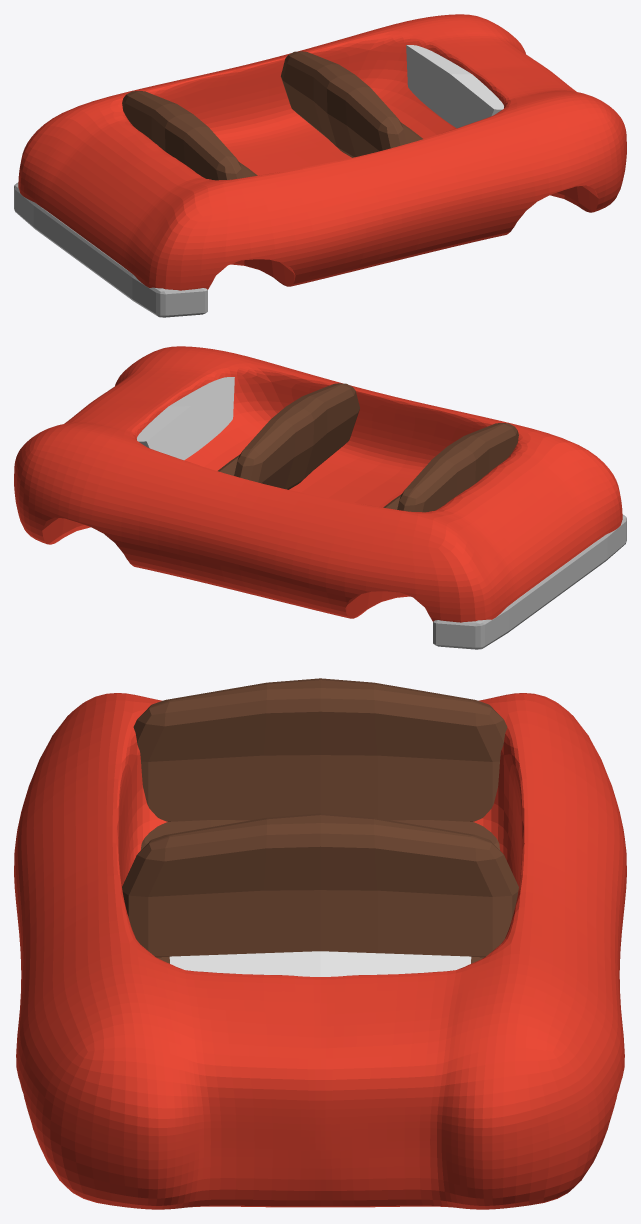
The model's file is Clowncar_Body.glb.
3 renders of one model, top to bottom at view 1: azimuth 30°, elevation 25°; view 2: azimuth 150°, elevation 25°; view 3: azimuth 270°, elevation 25°, orthographic. The views are drawn at different scales.
Parts seen in each view (by area): view 1: Carbod, Seatback.002, Seatback.004, Back_Bunper, Dash; view 2: Carbod, Seatback.002, Seatback.004, Back_Bunper, Dash; view 3: Carbod, Seatback.002, Seatback.004, Dash, Seatback.001.
Boxes of the visible parts, x1,y1,x2,y2 form: Carbod: (18, 14, 626, 290); Seatback.002: (281, 51, 406, 157); Seatback.004: (122, 91, 243, 180); Back_Bunper: (14, 182, 207, 317); Dash: (406, 45, 503, 128); Carbod: (14, 346, 622, 622); Seatback.002: (234, 383, 359, 489); Seatback.004: (397, 423, 518, 512); Back_Bunper: (433, 514, 626, 649); Dash: (137, 377, 234, 460); Carbod: (14, 693, 626, 1209); Seatback.002: (122, 813, 518, 957); Seatback.004: (133, 678, 507, 821); Dash: (169, 951, 471, 976); Seatback.001: (140, 820, 499, 850).
Bounding box in the file's own units: 4.46 × 1.14 × 2.83.
